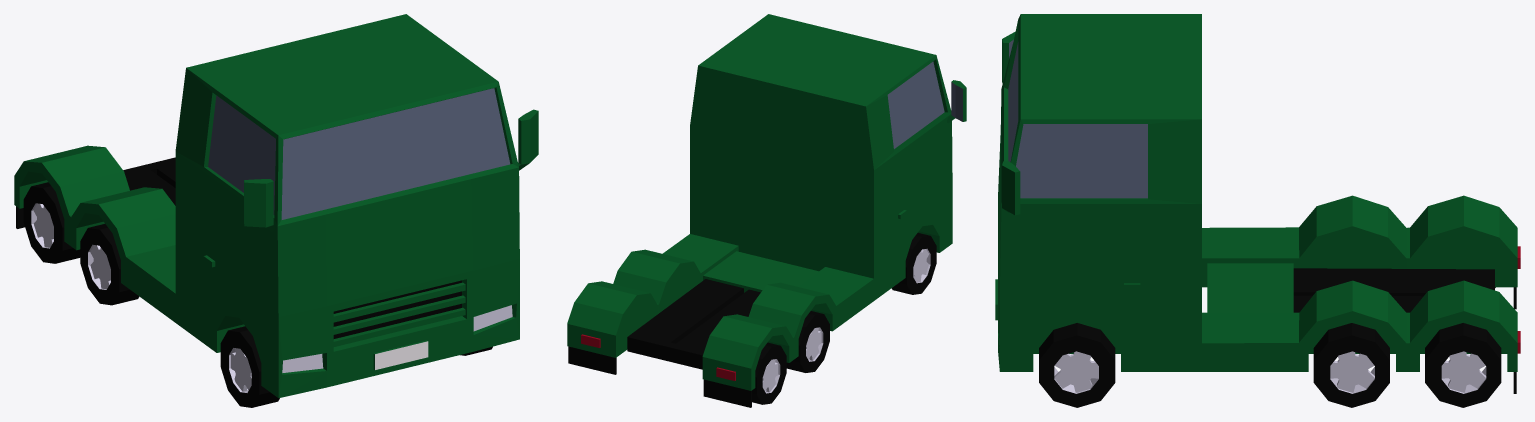
The model's file is Truck.glb.
3 renders of one model, left to right at view 1: azimuth 30°, elevation 25°; view 2: azimuth 150°, elevation 25°; view 3: azimuth 270°, elevation 25°, orthographic. The views are drawn at different scales.
Parts seen in each view (by area): view 1: Truck; view 2: Truck; view 3: Truck.
Part boxes in pixels (x1=…): Truck: x1=14, y1=14, x2=538, y2=407; Truck: x1=567, y1=14, x2=966, y2=407; Truck: x1=995, y1=14, x2=1520, y2=407.
Bounding box in the file's own units: 0.7483 × 0.7038 × 1.18.
